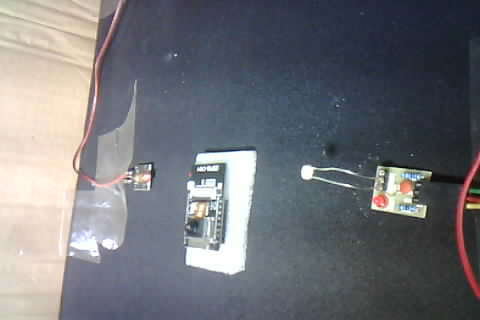esp32: (182, 150, 258, 275)
